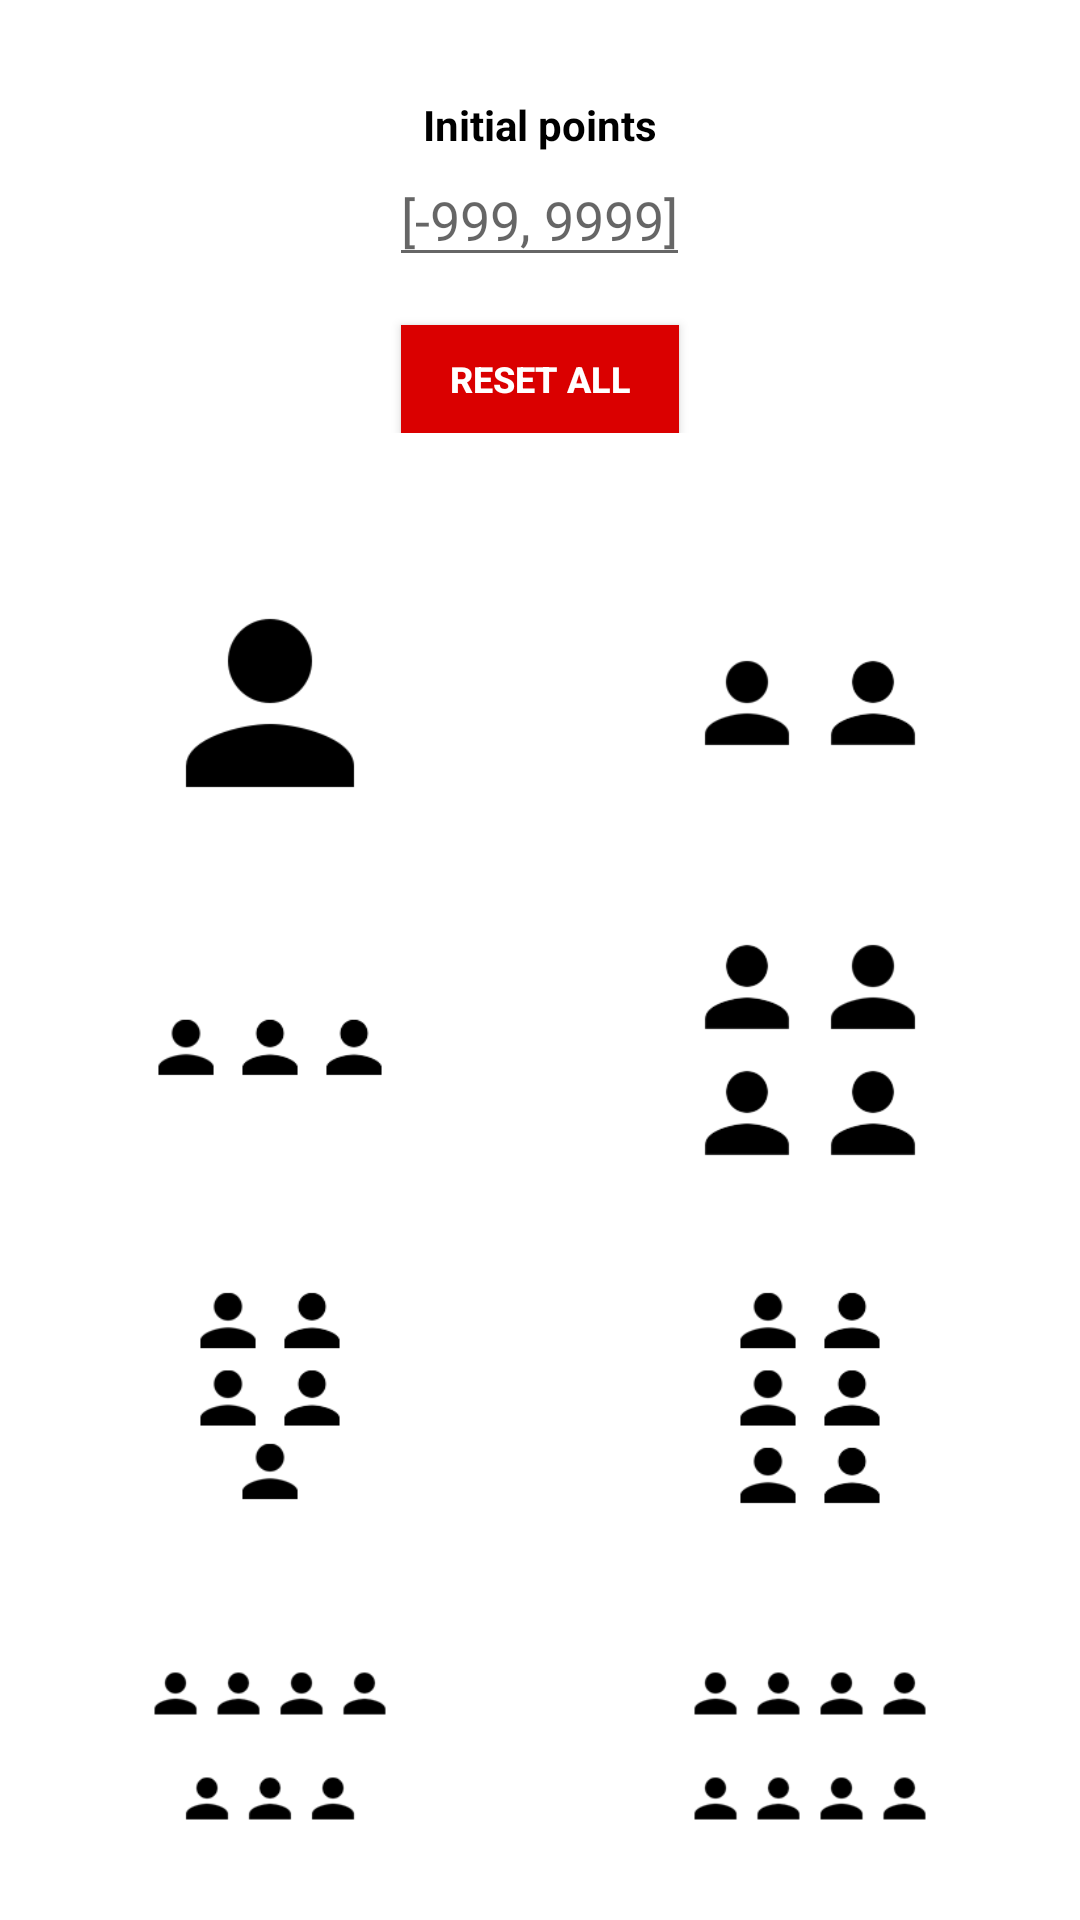

Screen size 1080px x 1920px. Icon name, then its center in pixels as (x=x, y=y):
Eight players: (x=810, y=1746)
Five players: (x=270, y=1396)
Four players: (x=810, y=1050)
One player: (x=270, y=703)
Seven players: (x=270, y=1746)
Six players: (x=810, y=1398)
Three players: (x=270, y=1047)
Two players: (x=810, y=703)
